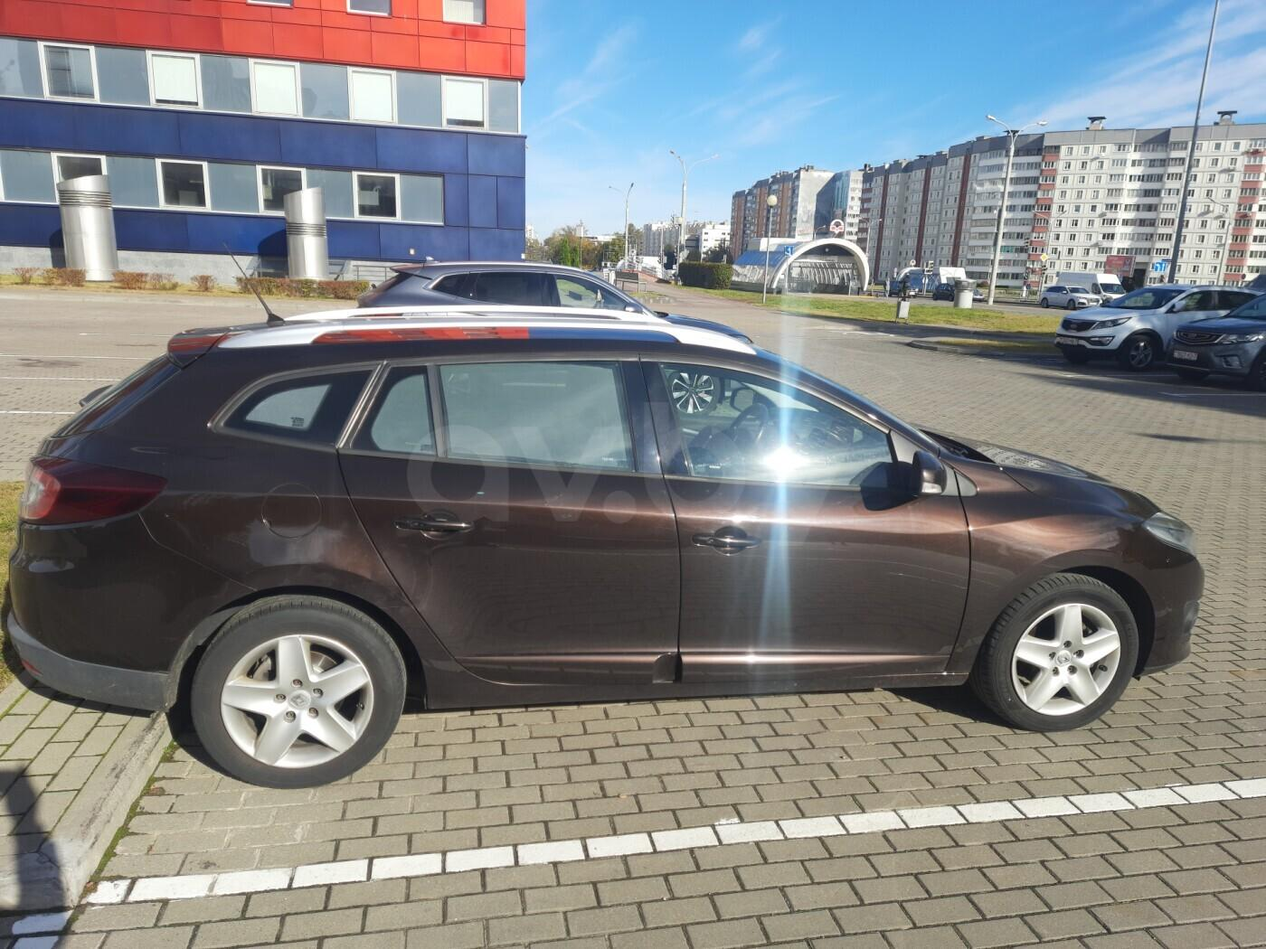Megane_2014-2016: (0, 296, 1213, 781)
